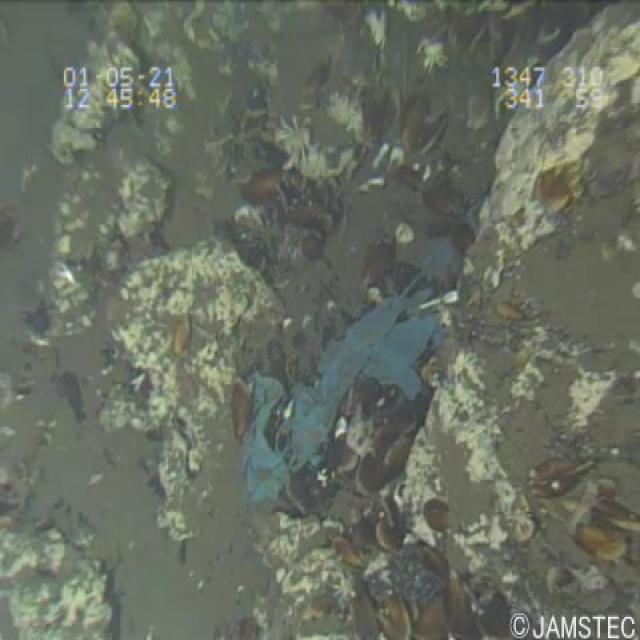plastic: (221, 208, 476, 517)
